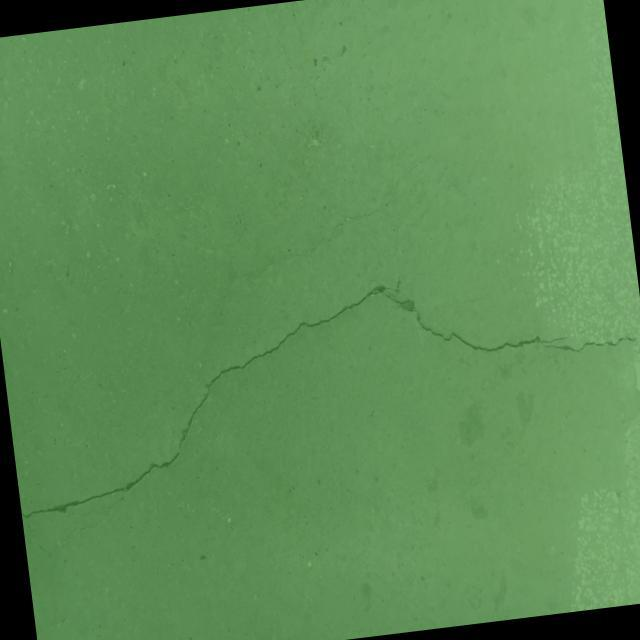crack: (0, 235, 640, 560), (209, 156, 454, 302)
